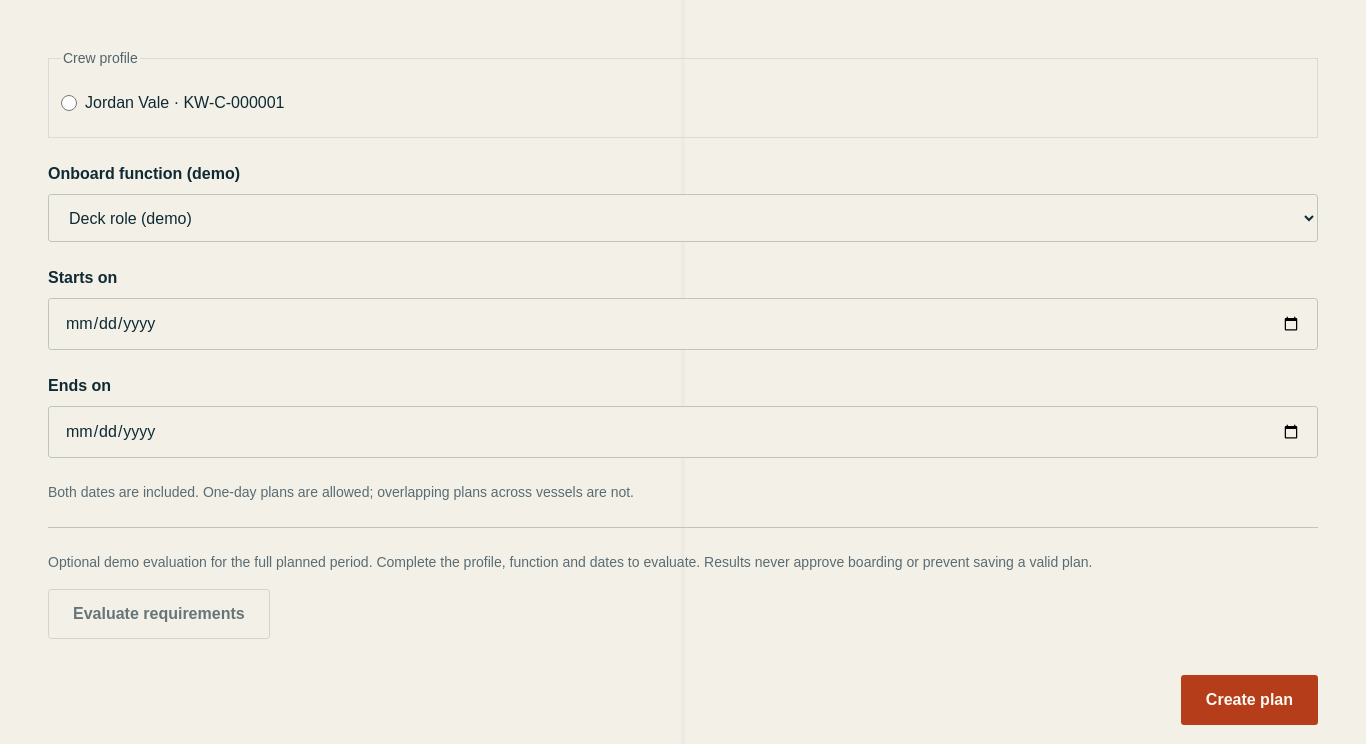
Scenario: can save after evaluation fails, without retrying either operation automatically
The width and height of the screenshot is (1366, 744).
Click the radio button labelled "Jordan Vale · KW-C-000001" at point(69, 103), box [61, 95, 77, 111]
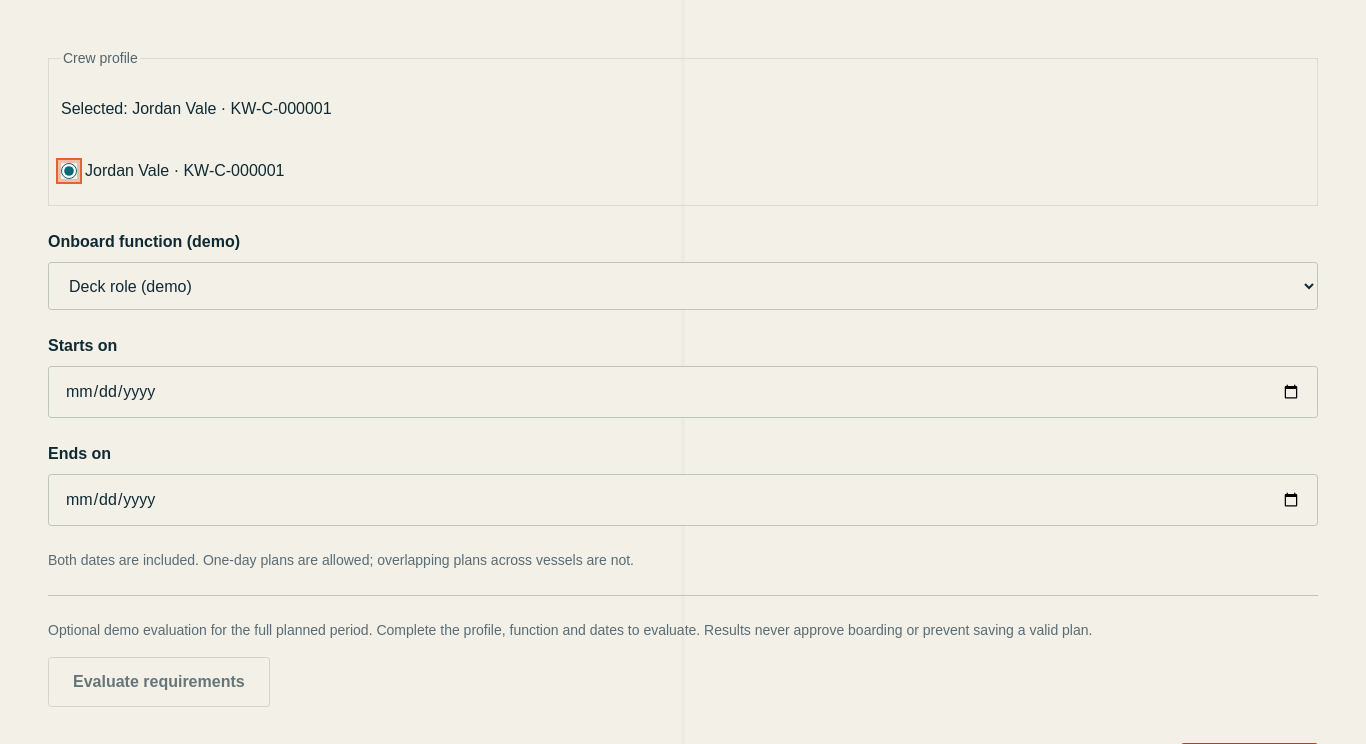
Type "2040-01-01" into the date field labelled "Starts on" at point(683, 392), box [48, 366, 1318, 418]
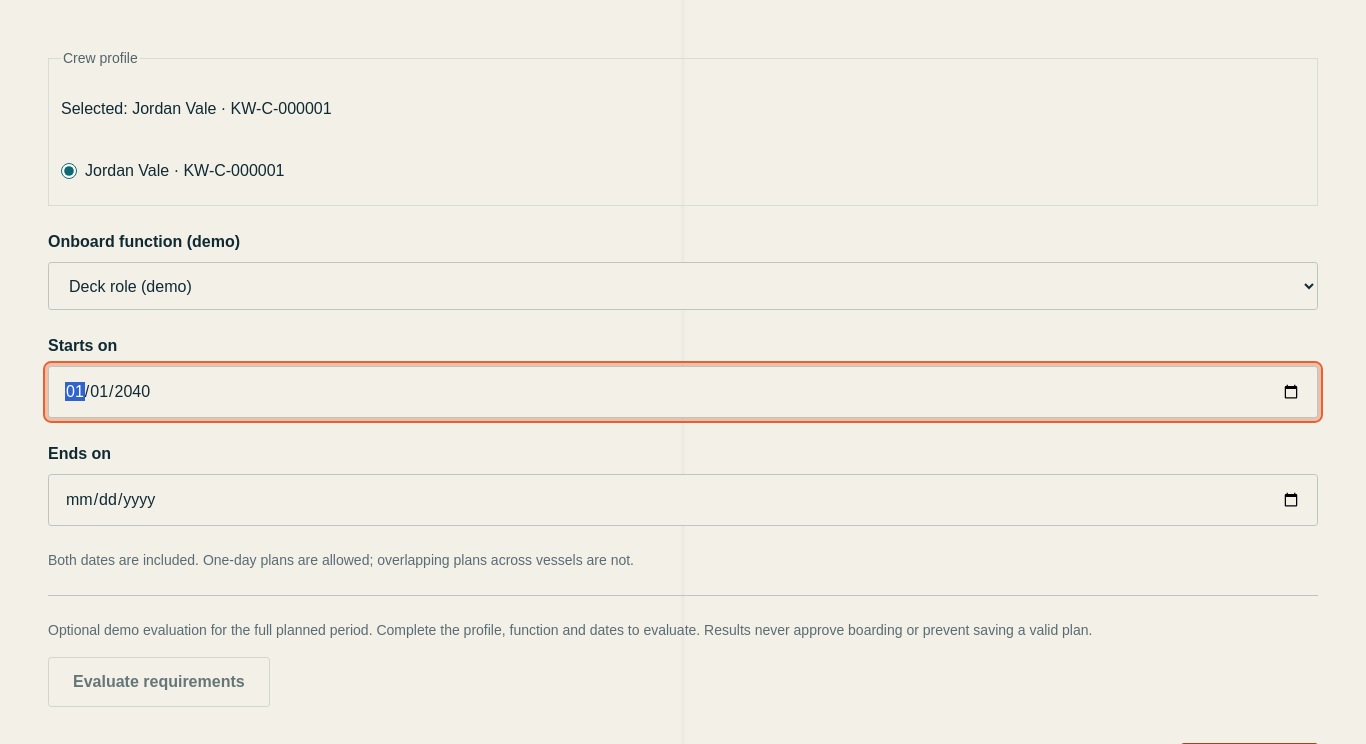
Type "2040-01-31" into the date field labelled "Ends on" at point(683, 500), box [48, 474, 1318, 526]
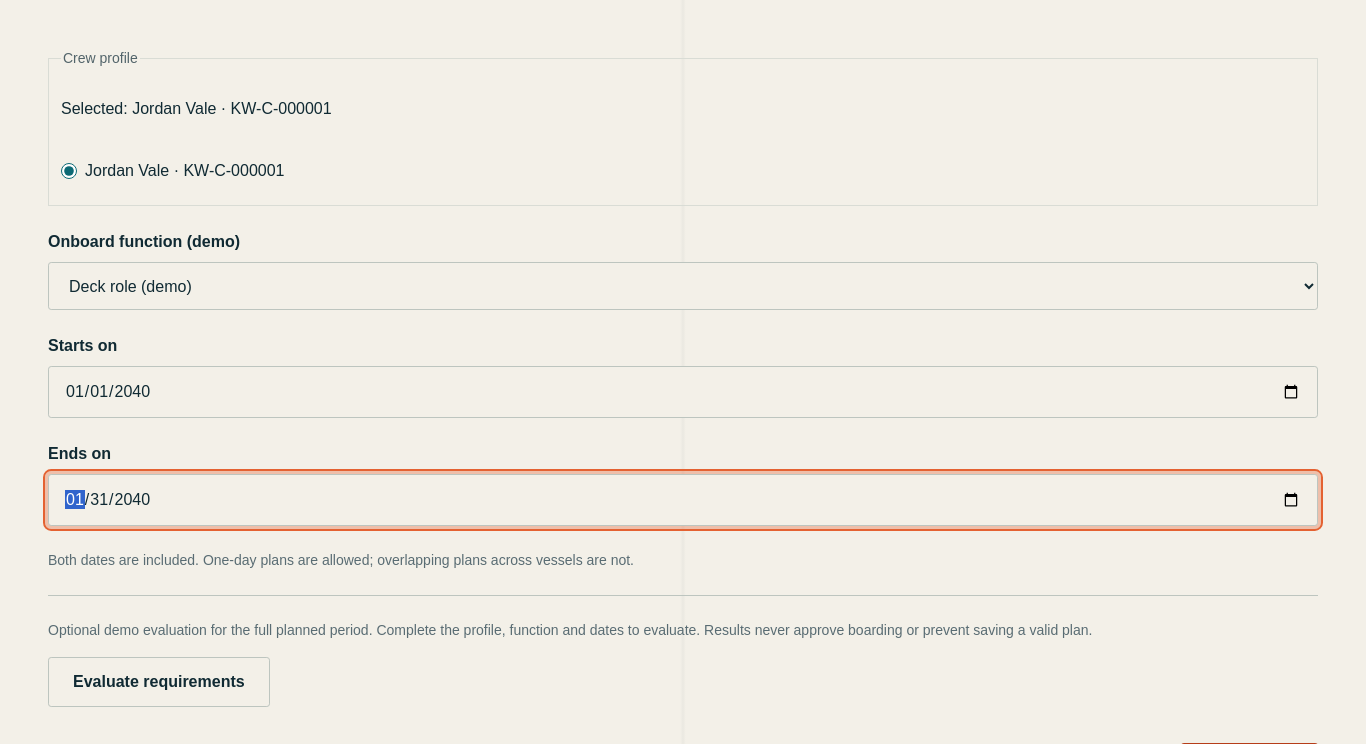
Click the button "Evaluate requirements" at point(159, 682), box [48, 657, 270, 707]
(page scrolled)
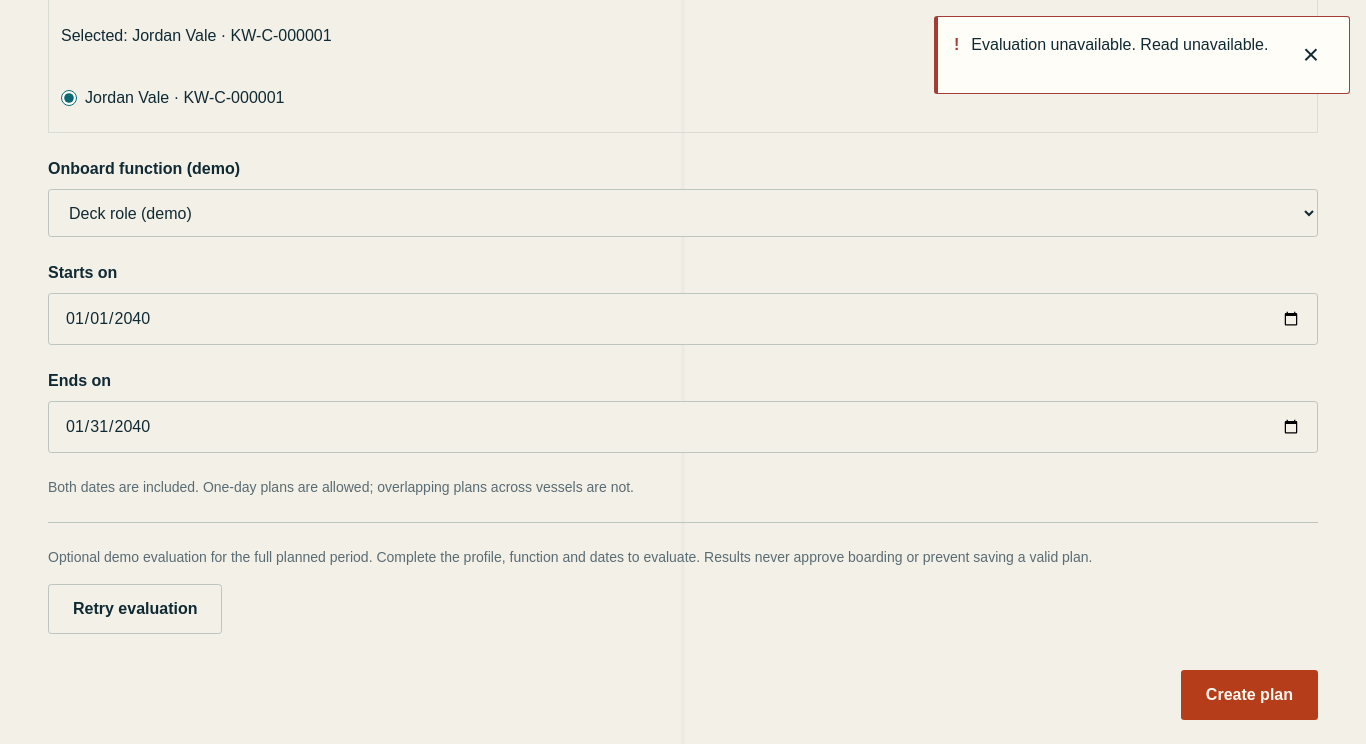
Result: the message "! Evaluation unavailable. Read unavailable. ×" is shown at [934, 16, 1350, 94]
Click the button "Create plan" at point(1249, 695), box [1181, 670, 1318, 720]
(page scrolled)
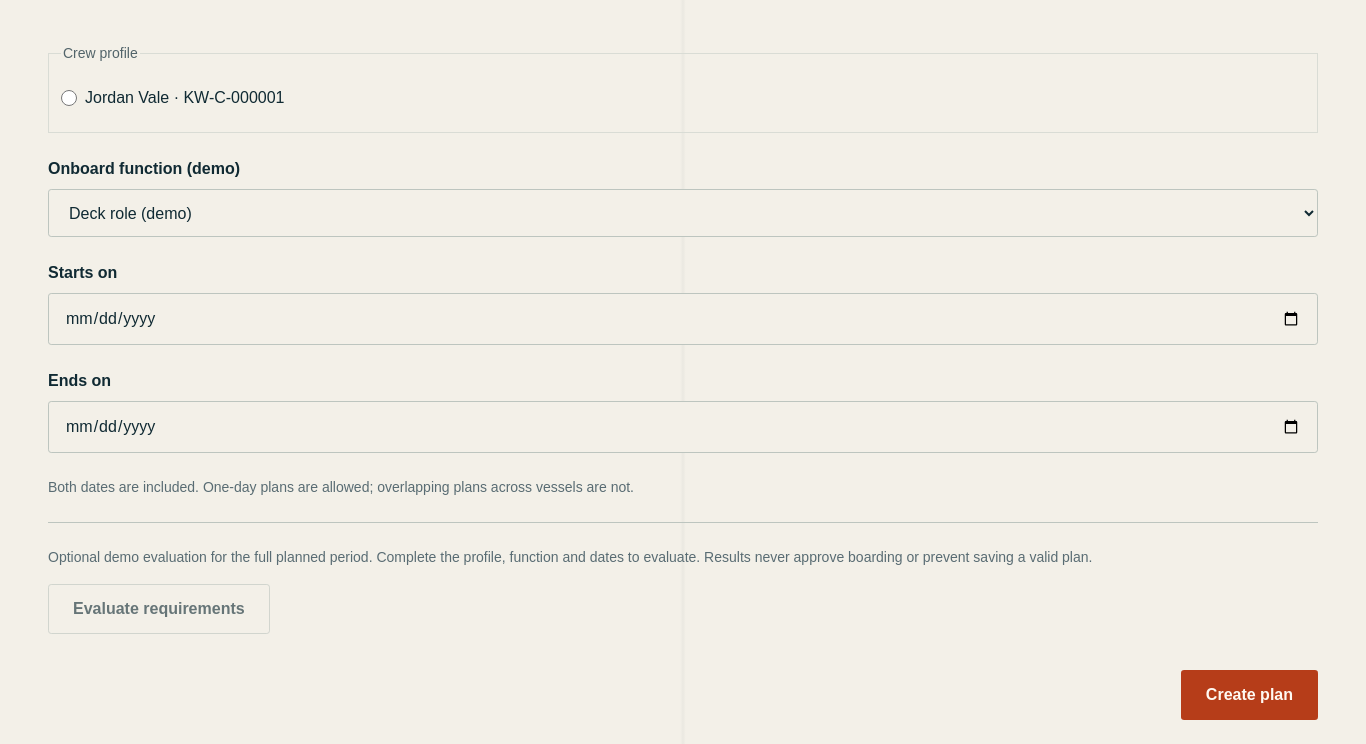
Result: the message "! Evaluation unavailable. Read unavailable. ×" is gone
